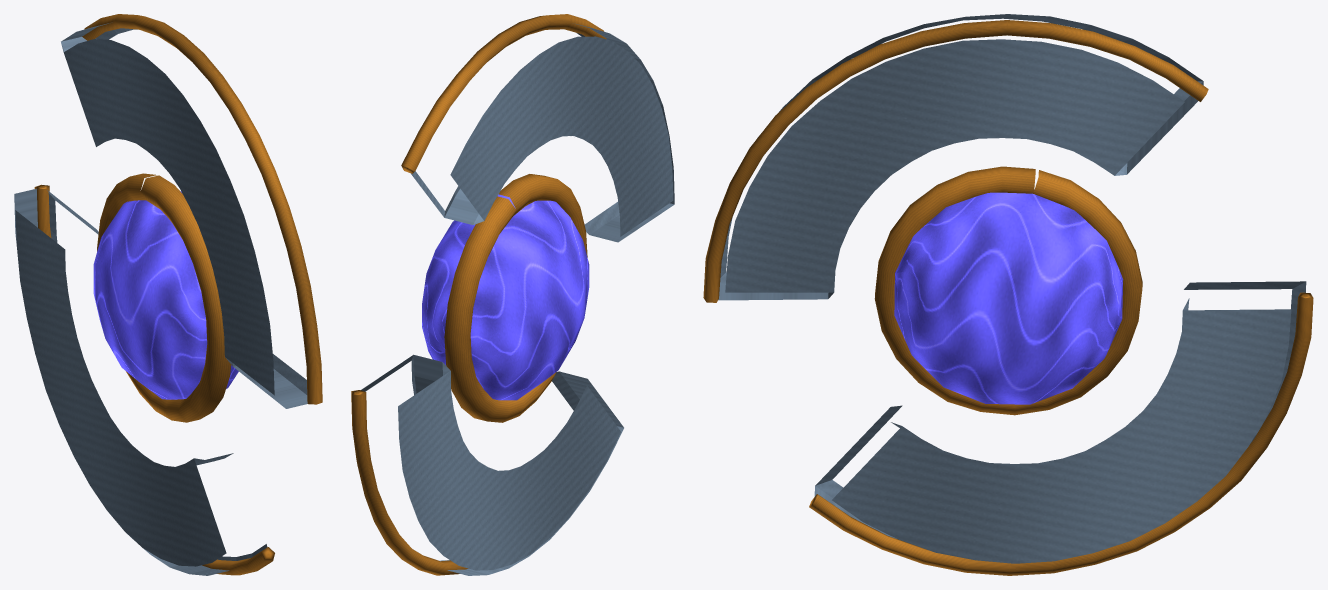
The model's file is switch_hook_tip.glb.
The picture shows the model from 3 angles, left to right: view 1: azimuth 30°, elevation 25°; view 2: azimuth 150°, elevation 25°; view 3: azimuth 270°, elevation 25°; orthographic projection. The views are drawn at different scales.
Visible parts, largest first — view 1: Crescent switch jaw (×2), Violet hub, Crescent gold edge (×2), Hub bezel; view 2: Crescent switch jaw (×2), Violet hub, Hub bezel, Crescent gold edge (×2); view 3: Crescent switch jaw (×2), Violet hub, Crescent gold edge (×2), Hub bezel.
Part boxes in pixels (left/top/right/bottom): Crescent switch jaw (×2): left=14, top=23, right=307, bottom=575; Violet hub: left=93, top=191, right=238, bottom=399; Crescent gold edge (×2): left=34, top=14, right=322, bottom=575; Hub bezel: left=97, top=173, right=231, bottom=422; Crescent switch jaw (×2): left=361, top=23, right=674, bottom=575; Violet hub: left=422, top=194, right=589, bottom=400; Hub bezel: left=444, top=174, right=587, bottom=422; Crescent gold edge (×2): left=351, top=14, right=606, bottom=575; Crescent switch jaw (×2): left=718, top=14, right=1306, bottom=563; Violet hub: left=894, top=192, right=1123, bottom=404; Crescent gold edge (×2): left=703, top=20, right=1313, bottom=575; Hub bezel: left=874, top=166, right=1142, bottom=415.
Bounding box in the file's own units: 336 × 1322 × 1321.
3 materials, 3 textured.
